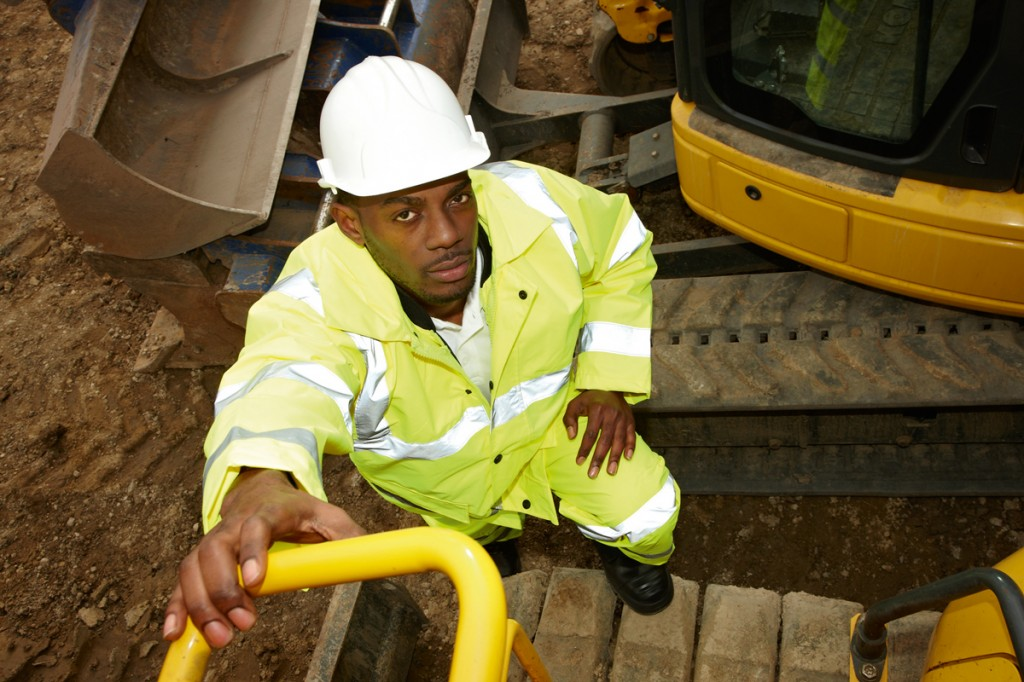Hard Hat: (306, 53, 493, 187)
High Viz: (310, 241, 580, 492)
